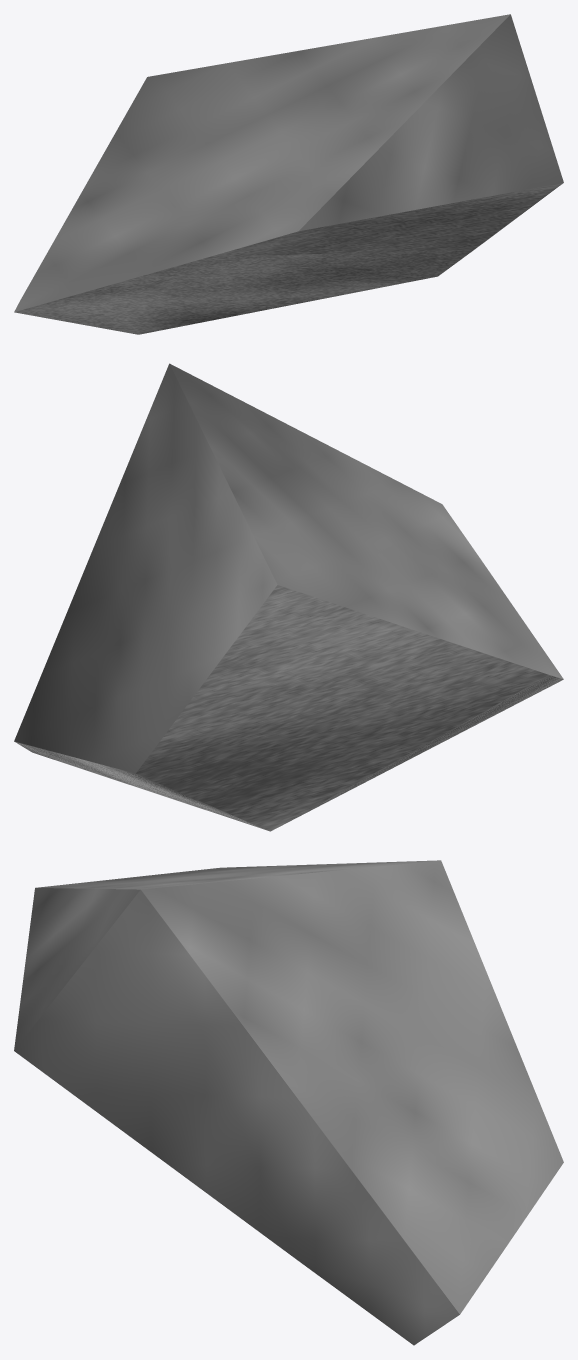
Rendered from leg_3_cell_014.fbx.
The picture shows the model from 3 angles, top to bottom: view 1: azimuth 30°, elevation 25°; view 2: azimuth 150°, elevation 25°; view 3: azimuth 270°, elevation 25°; orthographic projection. The views are drawn at different scales.
Visible parts, largest first — view 1: leg_3_cell.014; view 2: leg_3_cell.014; view 3: leg_3_cell.014.
Boxes of the visible parts, bbox=[...] form: leg_3_cell.014: bbox=[14, 14, 563, 334]; leg_3_cell.014: bbox=[14, 363, 563, 831]; leg_3_cell.014: bbox=[14, 860, 563, 1345].
Size of the model in its own units: 22.5 by 15.25 by 17.36.
